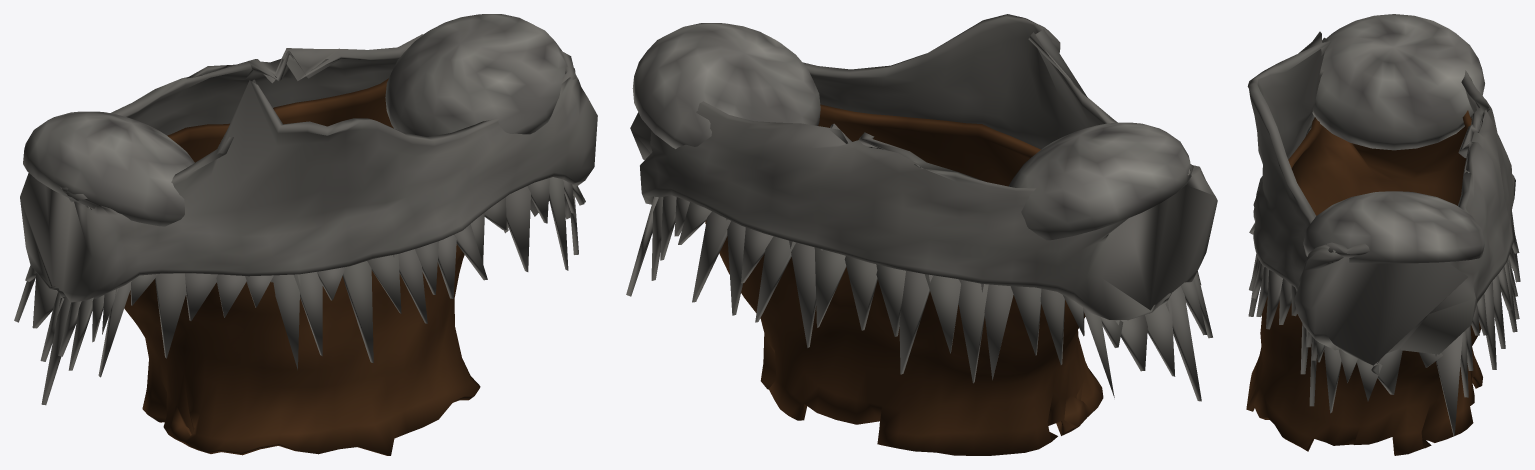
The model's file is wolf_pelt.glb.
3 views of the same model, side by side, from view 1: azimuth 30°, elevation 25°; view 2: azimuth 150°, elevation 25°; view 3: azimuth 270°, elevation 25° (orthographic). The views are drawn at different scales.
Parts seen in each view (by area): view 1: wolf_pelt; view 2: wolf_pelt; view 3: wolf_pelt.
Boxes of the visible parts, x1,y1,x2,y2 form: wolf_pelt: [14, 14, 597, 455]; wolf_pelt: [626, 14, 1217, 455]; wolf_pelt: [1246, 14, 1520, 455].
Bounding box in the file's own units: 0.3539 × 0.2322 × 0.1715.
